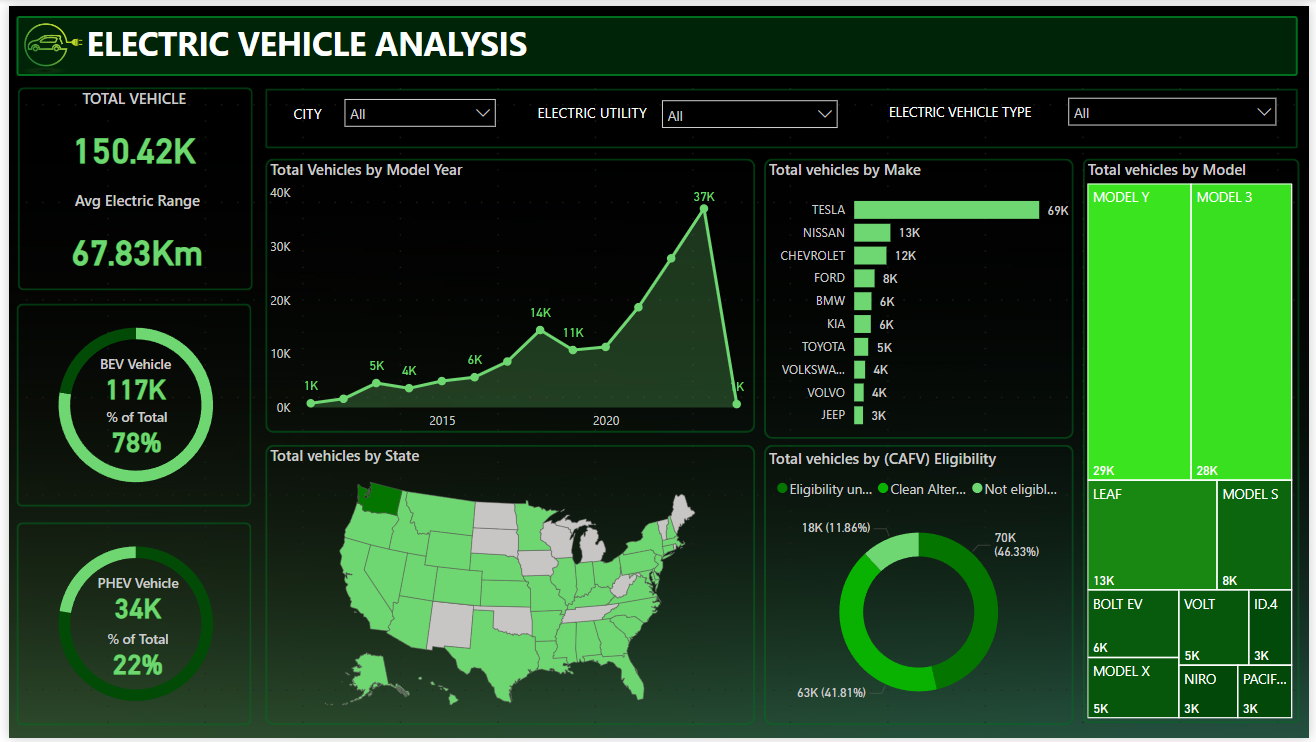

The page's visual inventory and layout, read from the dashboard file:
{"tool":"powerbi","page":{"name":"Page 1","canvas":[1280,720],"ordinal":0},"visuals":[{"type":"shape","box":[7.2,9.6,1261.5,59.1],"z":0},{"type":"textbox","box":[56.7,9.6,562,59.1],"z":1000},{"type":"shape","box":[8.4,79.6,231.6,200.2],"z":2000},{"type":"card","title":"TOTAL VEHICLE","fields":{"Values":["Electric_Vehicle_Population_Data.total vehicles"]},"box":[7.1,79.6,231.8,99.6],"z":3000},{"type":"card","title":"Avg Electric Range","fields":{"Values":["Electric_Vehicle_Population_Data.Avg range"]},"box":[12.1,180.9,227.9,98.9],"z":4000},{"type":"shape","box":[7.2,293.1,231.6,200.2],"z":5000},{"type":"shape","box":[7.2,507.7,231.6,200.2],"z":6000},{"type":"donutChart","fields":{"Category":["Electric_Vehicle_Population_Data.Electric Vehicle Type"],"Y":["Electric_Vehicle_Population_Data.total vehicles"]},"box":[10.9,293.1,227.9,200.2],"z":7000},{"type":"card","title":"BEV Vehicle","fields":{"Values":["Electric_Vehicle_Population_Data.BEV vehicles"]},"box":[44.6,343.7,160.4,49.4],"z":8000},{"type":"card","title":"% of Total","fields":{"Values":["Electric_Vehicle_Population_Data.% of BEV"]},"box":[45.8,395.6,160.4,49.4],"z":9000},{"type":"donutChart","fields":{"Category":["Electric_Vehicle_Population_Data.Electric Vehicle Type"],"Y":["Electric_Vehicle_Population_Data.total vehicles"]},"box":[10.9,507.7,227.9,200.2],"z":10000},{"type":"card","title":"PHEV Vehicle","fields":{"Values":["Electric_Vehicle_Population_Data.PHEV vehicles"]},"box":[47,558.4,160.4,49.4],"z":11000},{"type":"card","title":"% of Total","fields":{"Values":["Electric_Vehicle_Population_Data.% of PHEV"]},"box":[47,613.9,160.4,49.4],"z":12000},{"type":"shape","box":[252.1,80.8,1016.7,59.1],"z":13000},{"type":"shape","box":[252.1,150.8,482.4,270.2],"z":14000},{"type":"areaChart","title":"Total Vehicles by Model Year","fields":{"Y":["Electric_Vehicle_Population_Data.total vehicles"],"Category":["Electric_Vehicle_Population_Data.Model Year"]},"box":[252.1,150.8,482.4,276.2],"z":15000},{"type":"shape","box":[252.1,431.8,482.4,276.2],"z":16000},{"type":"shapeMap","title":"Total vehicles by State","fields":{"Category":["Electric_Vehicle_Population_Data.State"],"Value":["Electric_Vehicle_Population_Data.total vehicles"]},"box":[252.1,431.8,482.4,273.8],"z":17000},{"type":"shape","box":[742.9,149.5,305.1,276.2],"z":18000},{"type":"barChart","title":"Total vehicles by Make","fields":{"Category":["Electric_Vehicle_Population_Data.Make"],"Y":["Electric_Vehicle_Population_Data.total vehicles"]},"box":[742.9,150.8,305.1,276.2],"z":19000},{"type":"shape","box":[742.9,431.8,305.1,276.2],"z":20000},{"type":"donutChart","title":"Total vehicles by (CAFV) Eligibility","fields":{"Category":["Electric_Vehicle_Population_Data.Clean Alternative Fuel Vehicle (CAFV) Eligibility"],"Y":["Electric_Vehicle_Population_Data.total vehicles"]},"box":[742.9,434.2,305.1,275],"z":21000},{"type":"treemap","title":"Total vehicles by Model","fields":{"Group":["Electric_Vehicle_Population_Data.Model"],"Values":["Electric_Vehicle_Population_Data.total vehicles"]},"box":[1057.7,149.5,211.1,556],"z":22000},{"type":"shape","box":[1057.7,149.5,213.5,556],"z":23000},{"type":"slicer","fields":{"Values":["Electric_Vehicle_Population_Data.City"]},"box":[319.4,80.8,168.8,50.7],"z":24000},{"type":"slicer","fields":{"Values":["Electric_Vehicle_Population_Data.Electric Utility"]},"box":[633.2,82,193,50.7],"z":25000},{"type":"textbox","box":[259.1,91.7,61.5,39.8],"z":26000},{"type":"textbox","box":[491.9,89.2,148.3,43.4],"z":27000},{"type":"textbox","box":[826.1,89.2,206.2,39.8],"z":28000},{"type":"slicer","fields":{"Values":["Electric_Vehicle_Population_Data.Electric Vehicle Type"]},"box":[1032.4,79.6,225.5,50.7],"z":29000},{"type":"image","box":[7.2,7.2,69.9,69.9],"z":30000}]}

Visuals, with their boxes in screenshot pixels (x1, y1, x2, y2), scaled from the page's 1280x720 canvas onto the 1316x742 screenshot:
shape: [left=7, top=10, right=1304, bottom=71]
textbox: [left=58, top=10, right=636, bottom=71]
shape: [left=9, top=82, right=247, bottom=288]
"TOTAL VEHICLE" card: [left=7, top=82, right=246, bottom=185]
"Avg Electric Range" card: [left=12, top=186, right=247, bottom=288]
shape: [left=7, top=302, right=246, bottom=508]
shape: [left=7, top=523, right=246, bottom=730]
donutChart - Electric_Vehicle_Population_Data.Electric Vehicle Type x Electric_Vehicle_Population_Data.total vehicles: [left=11, top=302, right=246, bottom=508]
"BEV Vehicle" card: [left=46, top=354, right=211, bottom=405]
"% of Total" card: [left=47, top=408, right=212, bottom=459]
donutChart - Electric_Vehicle_Population_Data.Electric Vehicle Type x Electric_Vehicle_Population_Data.total vehicles: [left=11, top=523, right=246, bottom=730]
"PHEV Vehicle" card: [left=48, top=575, right=213, bottom=626]
"% of Total" card: [left=48, top=633, right=213, bottom=684]
shape: [left=259, top=83, right=1304, bottom=144]
shape: [left=259, top=155, right=755, bottom=434]
"Total Vehicles by Model Year" areaChart: [left=259, top=155, right=755, bottom=440]
shape: [left=259, top=445, right=755, bottom=730]
"Total vehicles by State" shapeMap: [left=259, top=445, right=755, bottom=727]
shape: [left=764, top=154, right=1077, bottom=439]
"Total vehicles by Make" barChart: [left=764, top=155, right=1077, bottom=440]
shape: [left=764, top=445, right=1077, bottom=730]
"Total vehicles by (CAFV) Eligibility" donutChart: [left=764, top=447, right=1077, bottom=731]
"Total vehicles by Model" treemap: [left=1087, top=154, right=1304, bottom=727]
shape: [left=1087, top=154, right=1307, bottom=727]
slicer - Electric_Vehicle_Population_Data.City: [left=328, top=83, right=502, bottom=136]
slicer - Electric_Vehicle_Population_Data.Electric Utility: [left=651, top=85, right=849, bottom=137]
textbox: [left=266, top=95, right=330, bottom=136]
textbox: [left=506, top=92, right=658, bottom=137]
textbox: [left=849, top=92, right=1061, bottom=133]
slicer - Electric_Vehicle_Population_Data.Electric Vehicle Type: [left=1061, top=82, right=1293, bottom=134]
image: [left=7, top=7, right=79, bottom=79]
